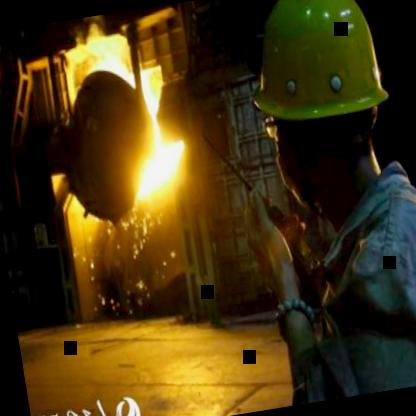helmet: (233, 0, 413, 225)
